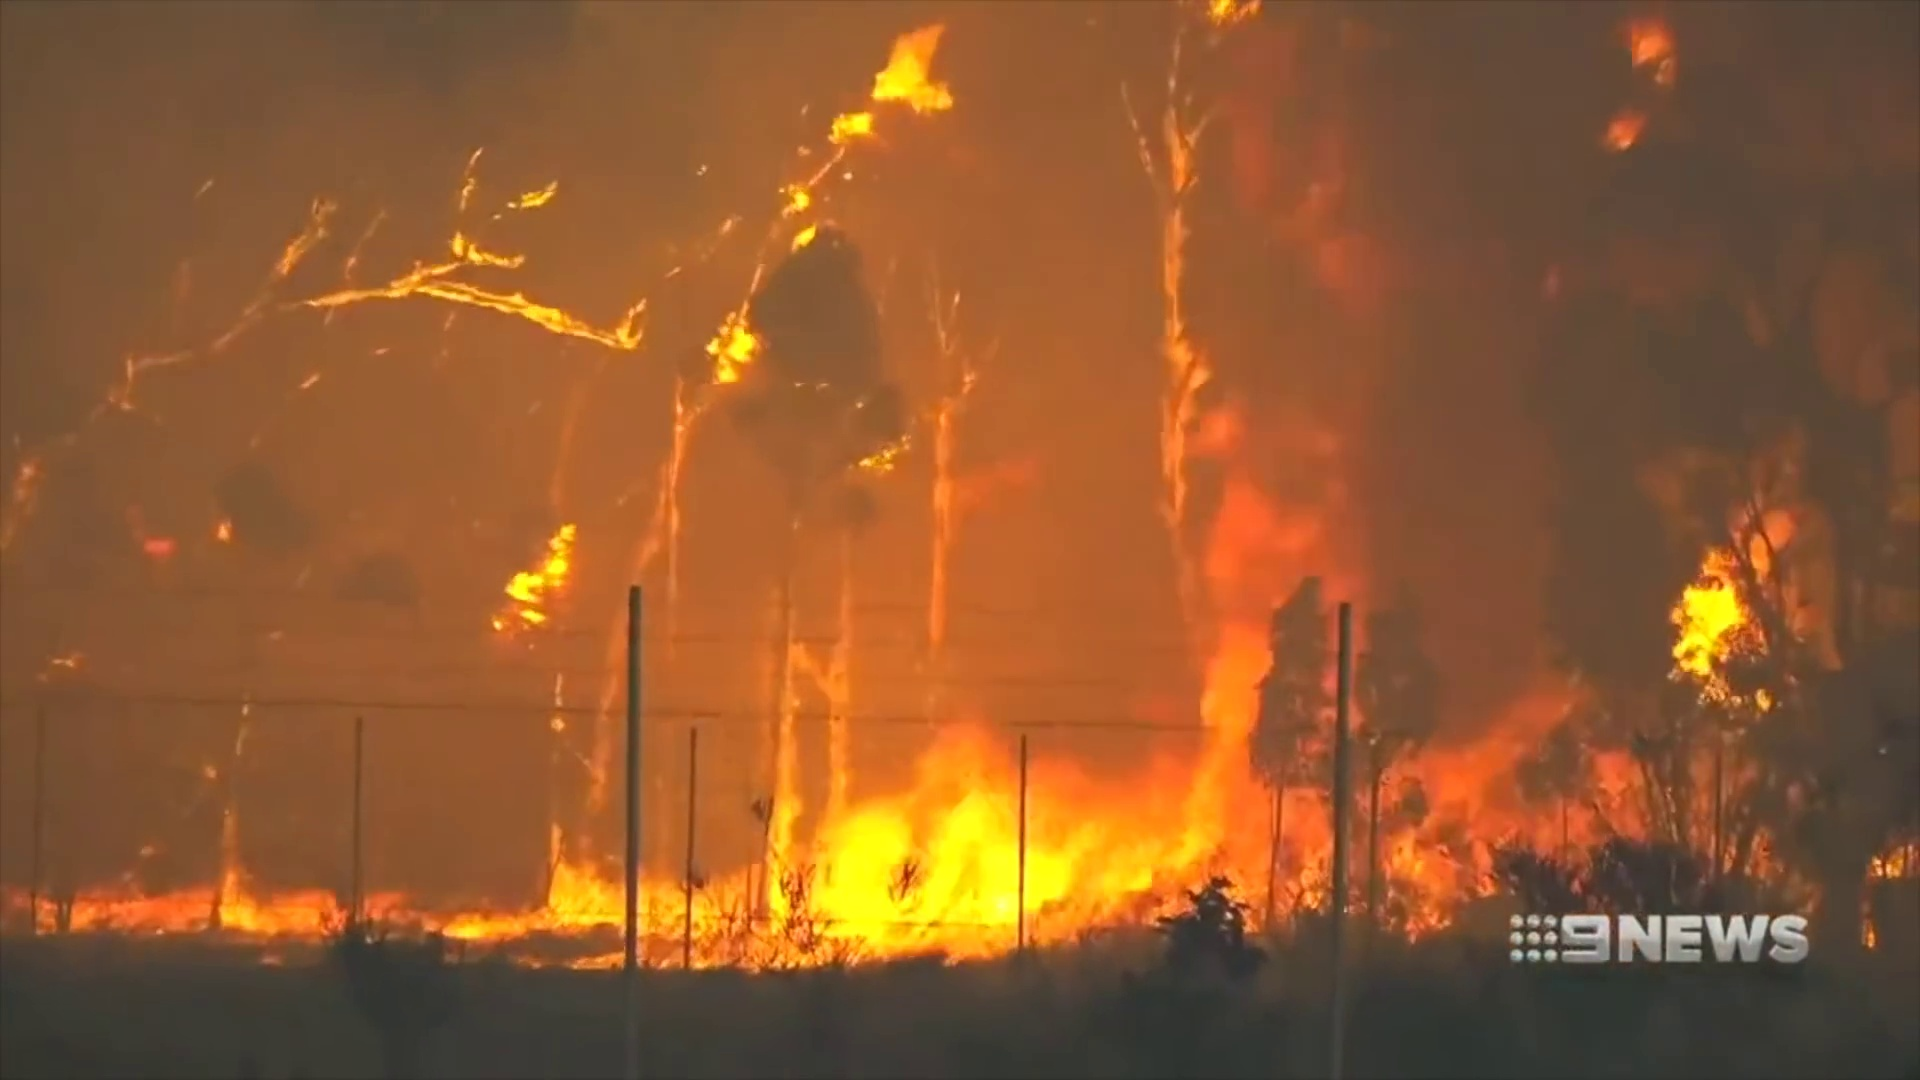fire: (799, 811, 1040, 922), (512, 872, 782, 926), (411, 290, 642, 338), (107, 891, 345, 934), (1673, 585, 1745, 670), (872, 26, 947, 105), (510, 527, 578, 611), (713, 316, 756, 369), (454, 237, 524, 266), (831, 111, 872, 138), (516, 182, 560, 204), (782, 194, 808, 216), (795, 224, 815, 243)
